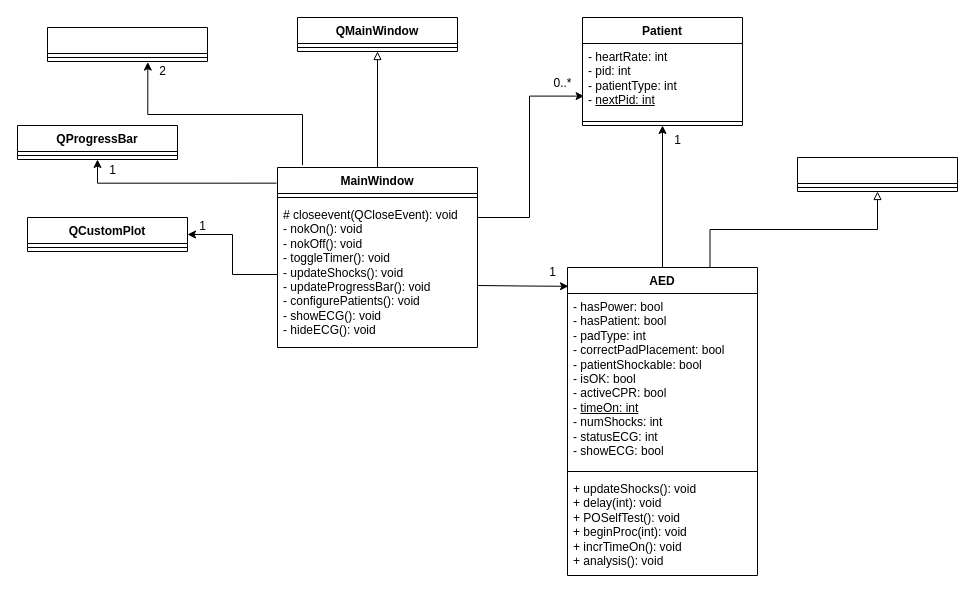
This 975x596 diagram has some shape labels left out. Each missing label, with the centre of its shape:
QObject: pixel 877 174
QTimer: pixel 127 44
